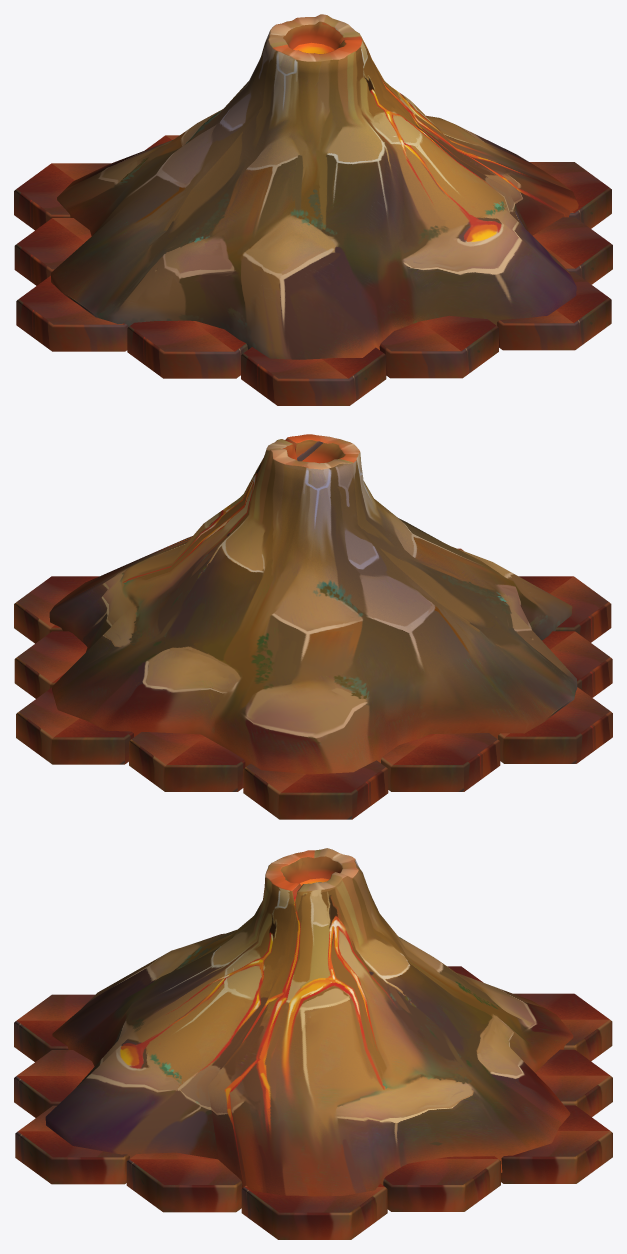
Rendered from vulcano_003.fbx.
3 renders of one model, top to bottom at view 1: azimuth 30°, elevation 25°; view 2: azimuth 150°, elevation 25°; view 3: azimuth 270°, elevation 25°, orthographic.
Visible parts, largest first — view 1: volcano.003; view 2: volcano.003; view 3: volcano.003.
Part boxes in pixels (x1,y1,x2,y2): volcano.003: (14,14,612,405); volcano.003: (14,434,612,819); volcano.003: (14,848,612,1239).
Size of the model in its own units: 430 by 174 by 395.
Materials: 1 (1 with a texture image).
